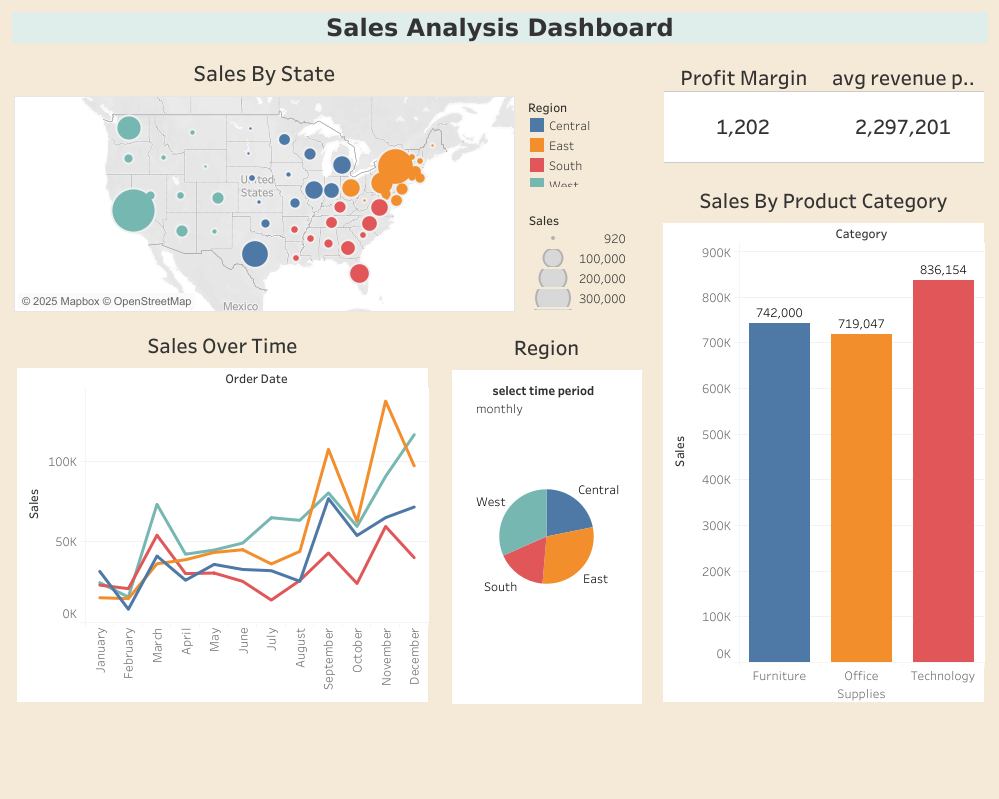

Layout of this report page (visuals, bound fields, positions):
{"tool":"tableau","page":{"name":"Sales analysis dashboard","canvas":[1000,800],"ordinal":3},"visuals":[{"type":"title","box":[8,8,984,39]},{"type":"worksheet","title":"kpi","mark":"Automatic","box":[664,51,320,112]},{"type":"worksheet","title":"Sales By State","mark":"Automatic","box":[14,52,501,260]},{"type":"legend","title":"Sales By State","param":"[federated.1iceusa0u3pi2b17uuead1nqawxa].[none:Region:nk]","box":[527,96,115,91]},{"type":"worksheet","title":"sales by product category","mark":"Automatic","rows":["Sales"],"cols":["Category"],"box":[663,180,321,522]},{"type":"legend","title":"Sales By State","param":"[federated.1iceusa0u3pi2b17uuead1nqawxa].[sum:Sales:qk]","box":[528,209,115,101]},{"type":"worksheet","title":"Sales Over Time","mark":"Automatic","rows":["Sales"],"cols":["Order Date"],"box":[17,325,411,377]},{"type":"worksheet","title":"Region","mark":"Pie","box":[452,327,189,376]},{"type":"parameter","param":"[Parameters].[Parameter 1]","box":[474,380,139,54]}]}

Visuals, with their boxes in screenshot pixels (x1, y1, x2, y2), scaled from the page's 1000x800 canvas onto the 999x799 screenshot:
title: [8,8,991,47]
"kpi" worksheet: [663,51,983,163]
"Sales By State" worksheet: [14,52,514,312]
"Sales By State" legend: [526,96,641,187]
"sales by product category" worksheet: [662,180,983,701]
"Sales By State" legend: [527,209,642,310]
"Sales Over Time" worksheet: [17,325,428,701]
"Region" worksheet (Pie marks): [452,327,640,702]
parameter: [474,380,612,433]
